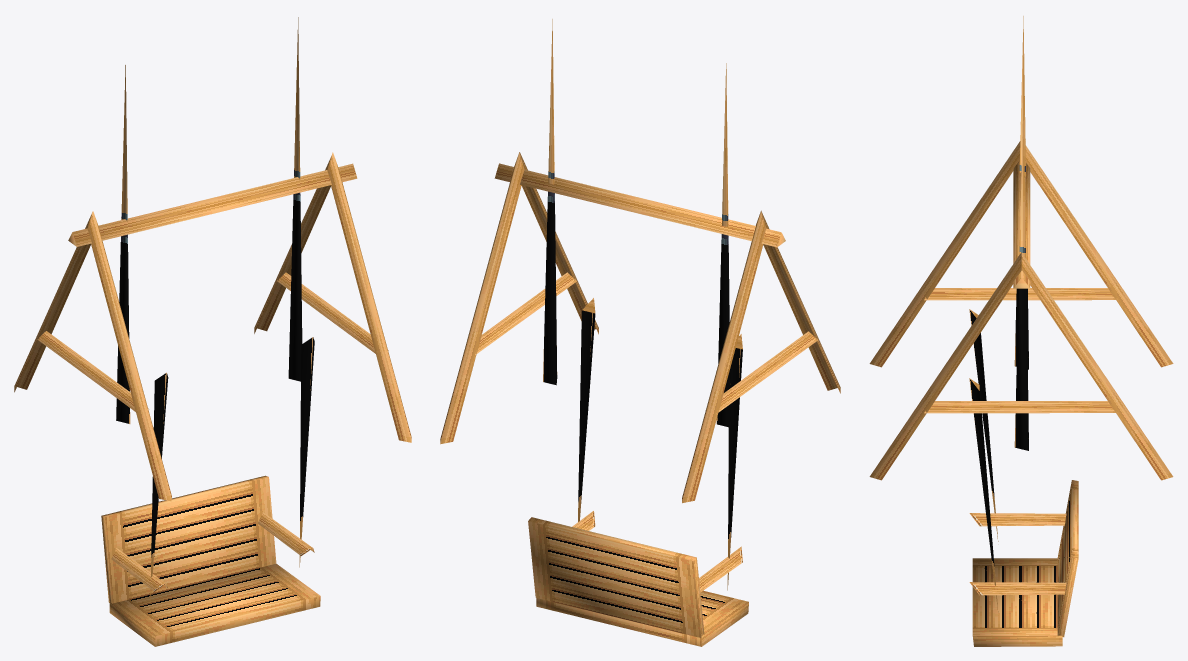
The picture shows the model from 3 angles, left to right: view 1: azimuth 30°, elevation 25°; view 2: azimuth 150°, elevation 25°; view 3: azimuth 270°, elevation 25°; orthographic projection. The views are drawn at different scales.
Visible parts, largest first — view 1: 3422IMIG20_21; view 2: 3422IMIG20_21; view 3: 3422IMIG20_21.
Part boxes in pixels (<box>): 3422IMIG20_21: <box>14,17,411,646</box>; 3422IMIG20_21: <box>440,19,840,646</box>; 3422IMIG20_21: <box>869,16,1173,646</box>.
Bounding box in the file's own units: 1.98 × 3.86 × 1.92.
2 materials, 2 textured.
